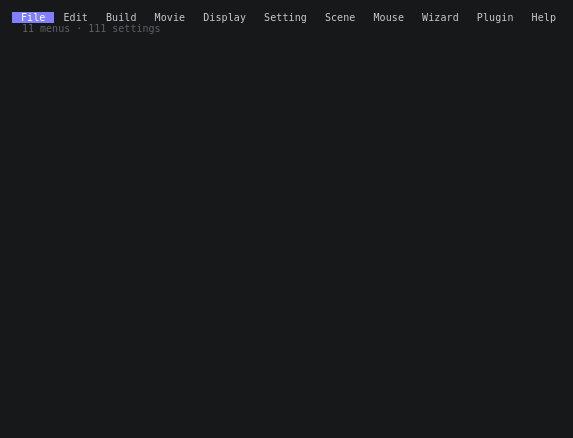
Setting > the three dialog entries (row 66) › are enabled, not "not built yet"
Click the button with class "menubar__item" showing "Setting".
click(285, 18)  # box [255,12,316,23]
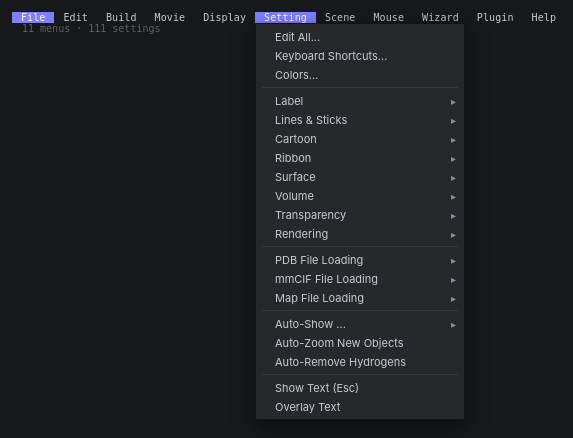
Expected: the menu item with class "menu__row" showing "Edit All..." is enabled, [256,27,464,46]
Expected: the menu item with class "menu__row" showing "Keyboard Shortcuts..." is enabled, [256,46,464,65]
Expected: the menu item with class "menu__row" showing "Colors..." is enabled, [256,65,464,84]
